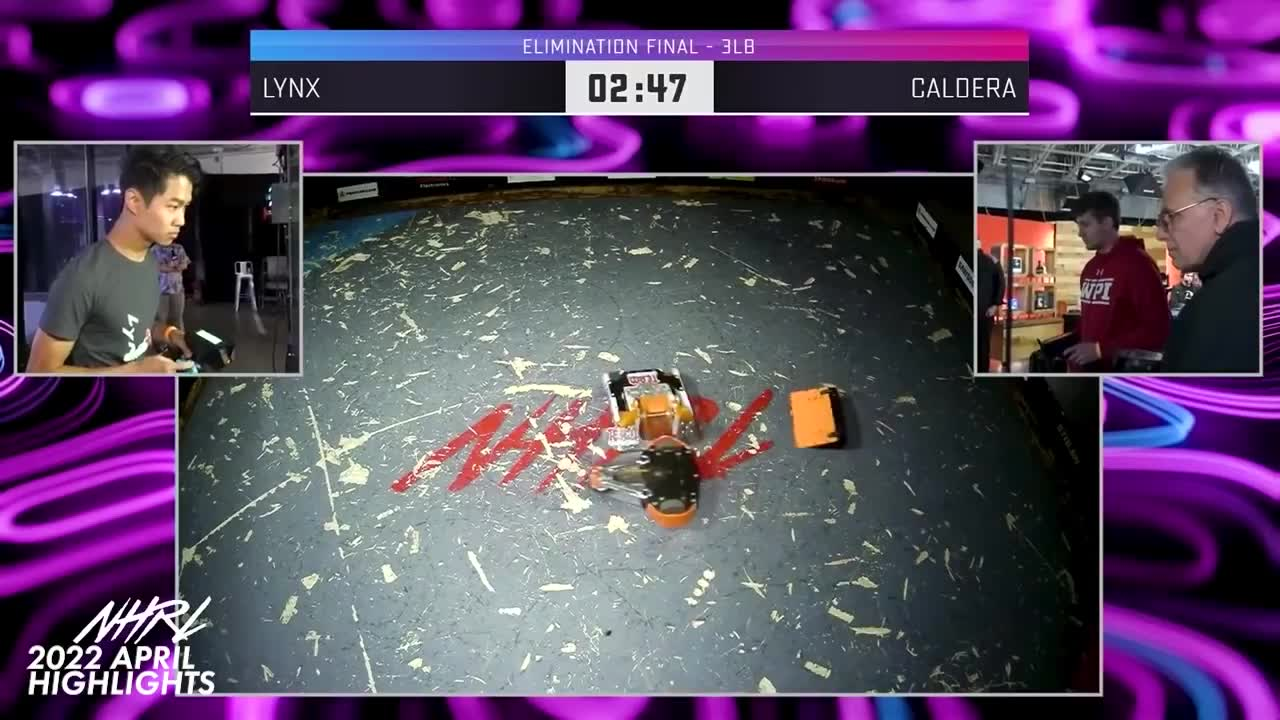combatbot: (586, 437, 706, 528), (605, 369, 699, 452)
minibot: (787, 386, 848, 447)
